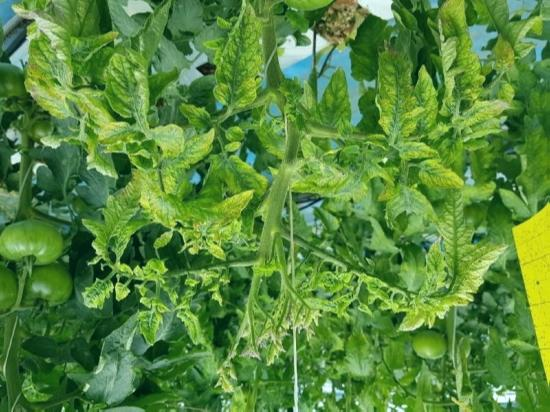Tomato leaf yellow virus: (6, 7, 80, 123), (210, 4, 267, 120), (371, 32, 426, 145), (436, 0, 490, 113), (90, 174, 159, 257), (107, 37, 155, 123), (312, 65, 354, 133), (210, 177, 258, 232), (165, 130, 224, 173), (448, 96, 519, 131), (414, 160, 477, 189), (147, 122, 190, 156), (96, 116, 130, 149)
